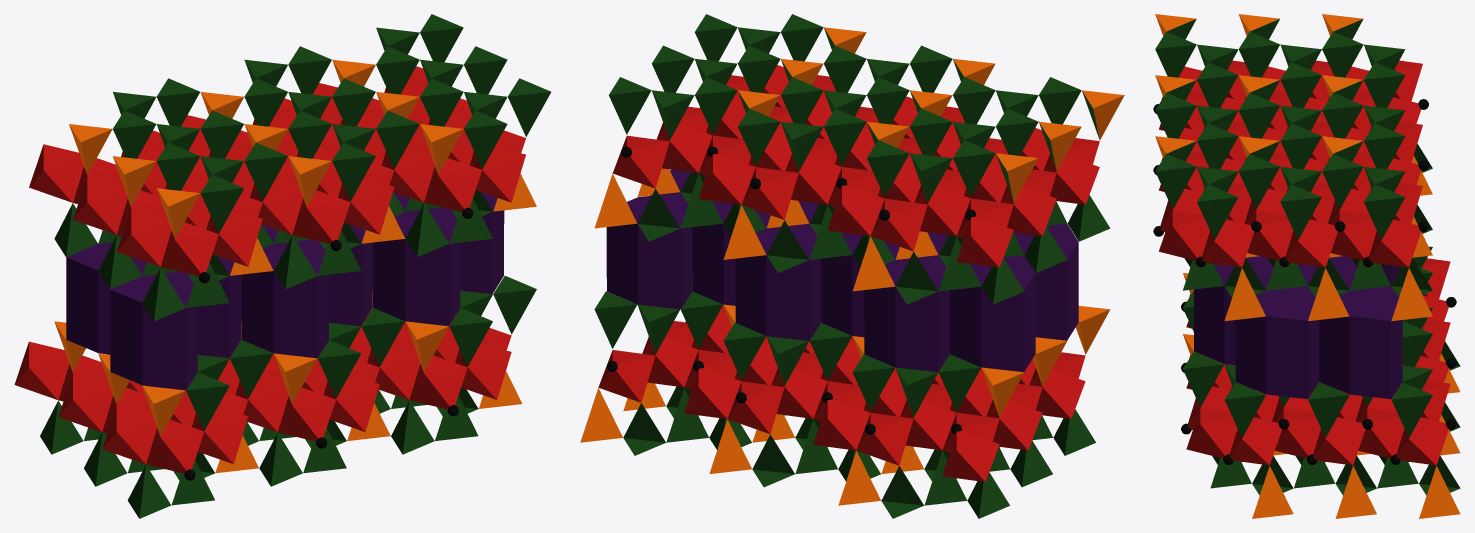
Rendered from Muscovita.obj.
3 views of the same model, side by side, from view 1: azimuth 30°, elevation 25°; view 2: azimuth 150°, elevation 25°; view 3: azimuth 270°, elevation 25° (orthographic). The views are drawn at different scales.
Parts seen in each view (by area): view 1: Folha_tetraedrica_Gb.009_Solid.633, Cation_intersticial.001_Cylinder.063, Folha_Gibbsita.005_Solid.631, Folha_Gibbsita.004_Solid.628, Folha_tetraedrica_Gb.007_Solid.630, Folha_tetraedrica_Gb.008_Solid.632, Folha_tetraedrica_Gb.006_Solid.629; view 2: Cation_intersticial.001_Cylinder.063, Folha_tetraedrica_Gb.009_Solid.633, Folha_Gibbsita.005_Solid.631, Folha_Gibbsita.004_Solid.628, Folha_tetraedrica_Gb.006_Solid.629, Folha_tetraedrica_Gb.008_Solid.632, Folha_tetraedrica_Gb.007_Solid.630; view 3: Folha_tetraedrica_Gb.009_Solid.633, Folha_Gibbsita.005_Solid.631, Cation_intersticial.001_Cylinder.063, Folha_Gibbsita.004_Solid.628, Folha_tetraedrica_Gb.006_Solid.629, Folha_tetraedrica_Gb.008_Solid.632, Folha_tetraedrica_Gb.007_Solid.630, hidroxila_topo.002_Sphere.025, hidroxila_topo.003_Sphere.027, hidroxila_base.003_Sphere.028, hidroxila_base.002_Sphere.026.
Part boxes in pixels (x1,y1,x2,y2): Folha_tetraedrica_Gb.009_Solid.633: (69, 14, 551, 239); Cation_intersticial.001_Cylinder.063: (66, 192, 504, 390); Folha_Gibbsita.005_Solid.631: (29, 66, 525, 276); Folha_Gibbsita.004_Solid.628: (14, 312, 511, 473); Folha_tetraedrica_Gb.007_Solid.630: (54, 276, 536, 436); Folha_tetraedrica_Gb.008_Solid.632: (54, 121, 536, 321); Folha_tetraedrica_Gb.006_Solid.629: (40, 348, 522, 518); Cation_intersticial.001_Cylinder.063: (606, 169, 1078, 372); Folha_tetraedrica_Gb.009_Solid.633: (609, 14, 1124, 203); Folha_Gibbsita.005_Solid.631: (612, 65, 1099, 267); Folha_Gibbsita.004_Solid.628: (598, 305, 1085, 481); Folha_tetraedrica_Gb.006_Solid.629: (580, 382, 1095, 518); Folha_tetraedrica_Gb.008_Solid.632: (595, 168, 1110, 304); Folha_tetraedrica_Gb.007_Solid.630: (594, 274, 1110, 417); Folha_tetraedrica_Gb.009_Solid.633: (1155, 14, 1405, 240); Folha_Gibbsita.005_Solid.631: (1159, 60, 1422, 267); Cation_intersticial.001_Cylinder.063: (1194, 256, 1402, 399); Folha_Gibbsita.004_Solid.628: (1186, 258, 1450, 465); Folha_tetraedrica_Gb.006_Solid.629: (1210, 341, 1460, 518); Folha_tetraedrica_Gb.008_Solid.632: (1183, 143, 1432, 321); Folha_tetraedrica_Gb.007_Solid.630: (1183, 246, 1432, 437); hidroxila_topo.002_Sphere.025: (1278, 297, 1456, 429); hidroxila_topo.003_Sphere.027: (1251, 99, 1428, 231); hidroxila_base.003_Sphere.028: (1153, 104, 1373, 267); hidroxila_base.002_Sphere.026: (1181, 301, 1400, 464).
Bounding box in the file's own units: 1.32 × 1.03 × 0.9022.
